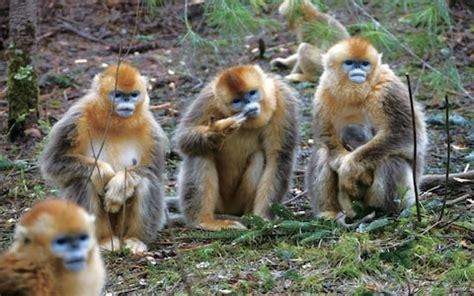monkey: (42, 65, 164, 253), (305, 39, 425, 220), (175, 67, 297, 230), (1, 201, 102, 296)
